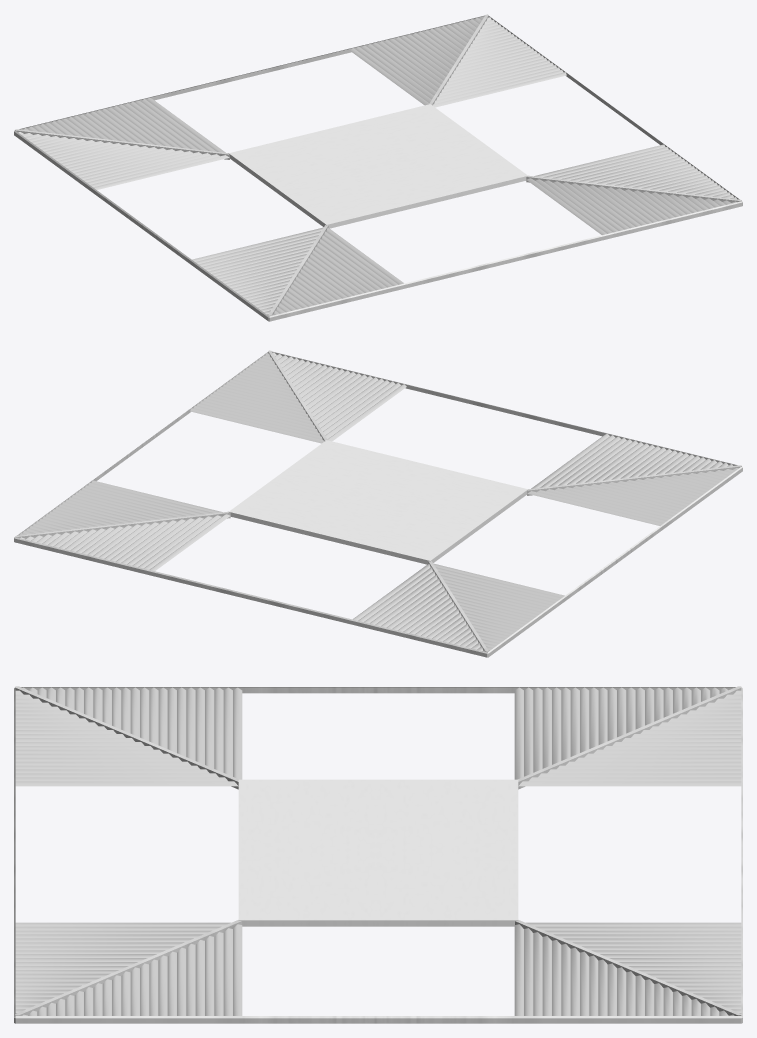
The model's file is Game_roller_01.fbx.
3 views of the same model, one above another, from view 1: azimuth 30°, elevation 25°; view 2: azimuth 150°, elevation 25°; view 3: azimuth 270°, elevation 25° (orthographic). The views are drawn at different scales.
Visible parts, largest first — view 1: Game_roller_01, Game_rotate_01; view 2: Game_roller_01, Game_rotate_01; view 3: Game_roller_01, Game_rotate_01.
Part boxes in pixels (box(x1,y1,x2,y2)): Game_roller_01: box(18, 16, 736, 315); Game_rotate_01: box(14, 14, 742, 321); Game_roller_01: box(20, 352, 738, 651); Game_rotate_01: box(14, 350, 742, 657); Game_roller_01: box(15, 687, 741, 1015); Game_rotate_01: box(14, 686, 742, 1023).
Bounding box in the file's own units: 98.79 × 1.18 × 92.12.
2 materials, 1 textured.
